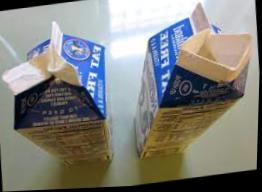cardboard: (136, 0, 258, 177), (0, 22, 111, 179)
